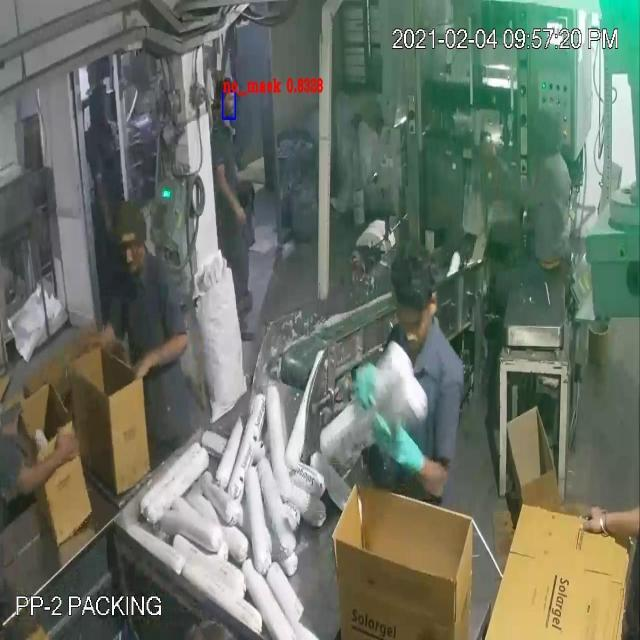No_Gloves: (31, 35, 609, 518)
